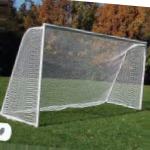goals: (1, 21, 147, 127)
